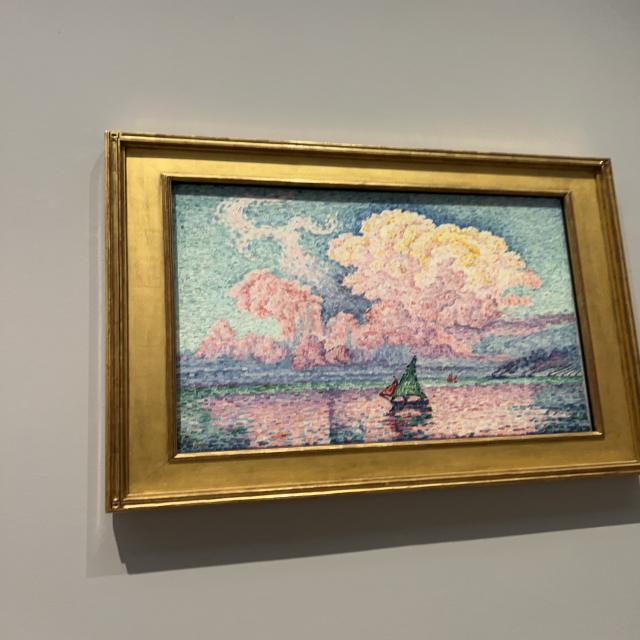sunrise: (173, 183, 593, 452)
